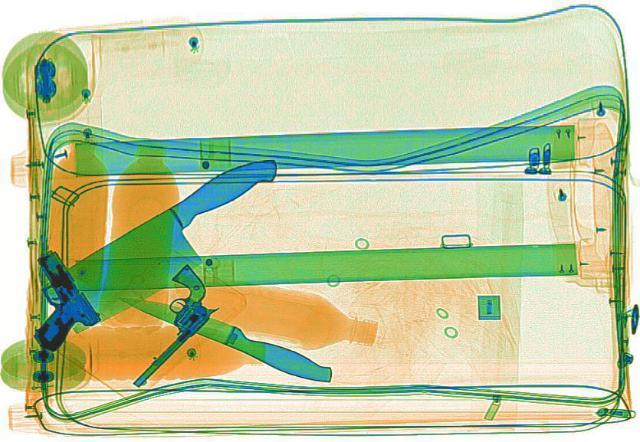Gun: (88, 261, 240, 388), (8, 244, 110, 351)
Knife: (14, 141, 322, 339), (110, 279, 344, 390)
